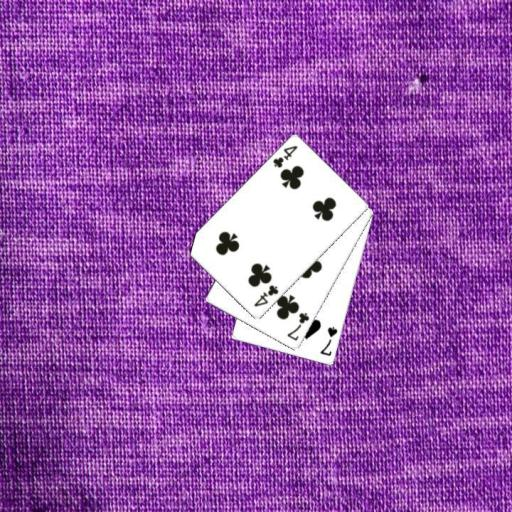4C: (270, 143, 300, 170), (251, 282, 280, 309)
7C: (284, 309, 311, 343)
7S: (317, 324, 339, 358)
